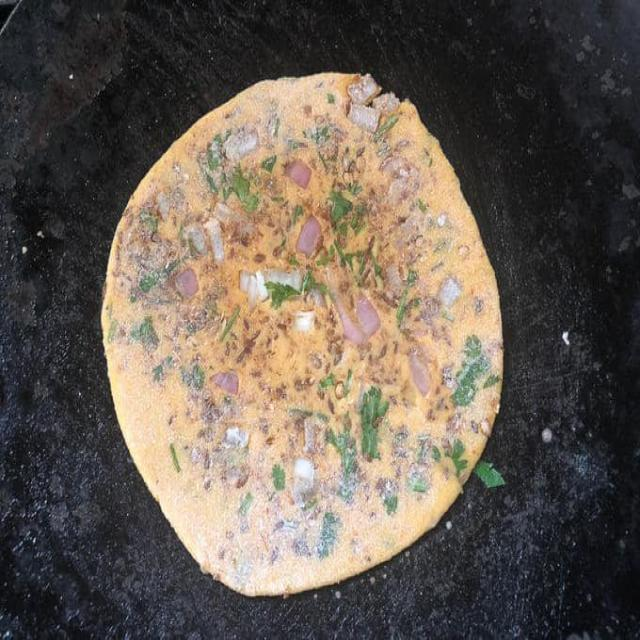paratha: (81, 52, 527, 613)
